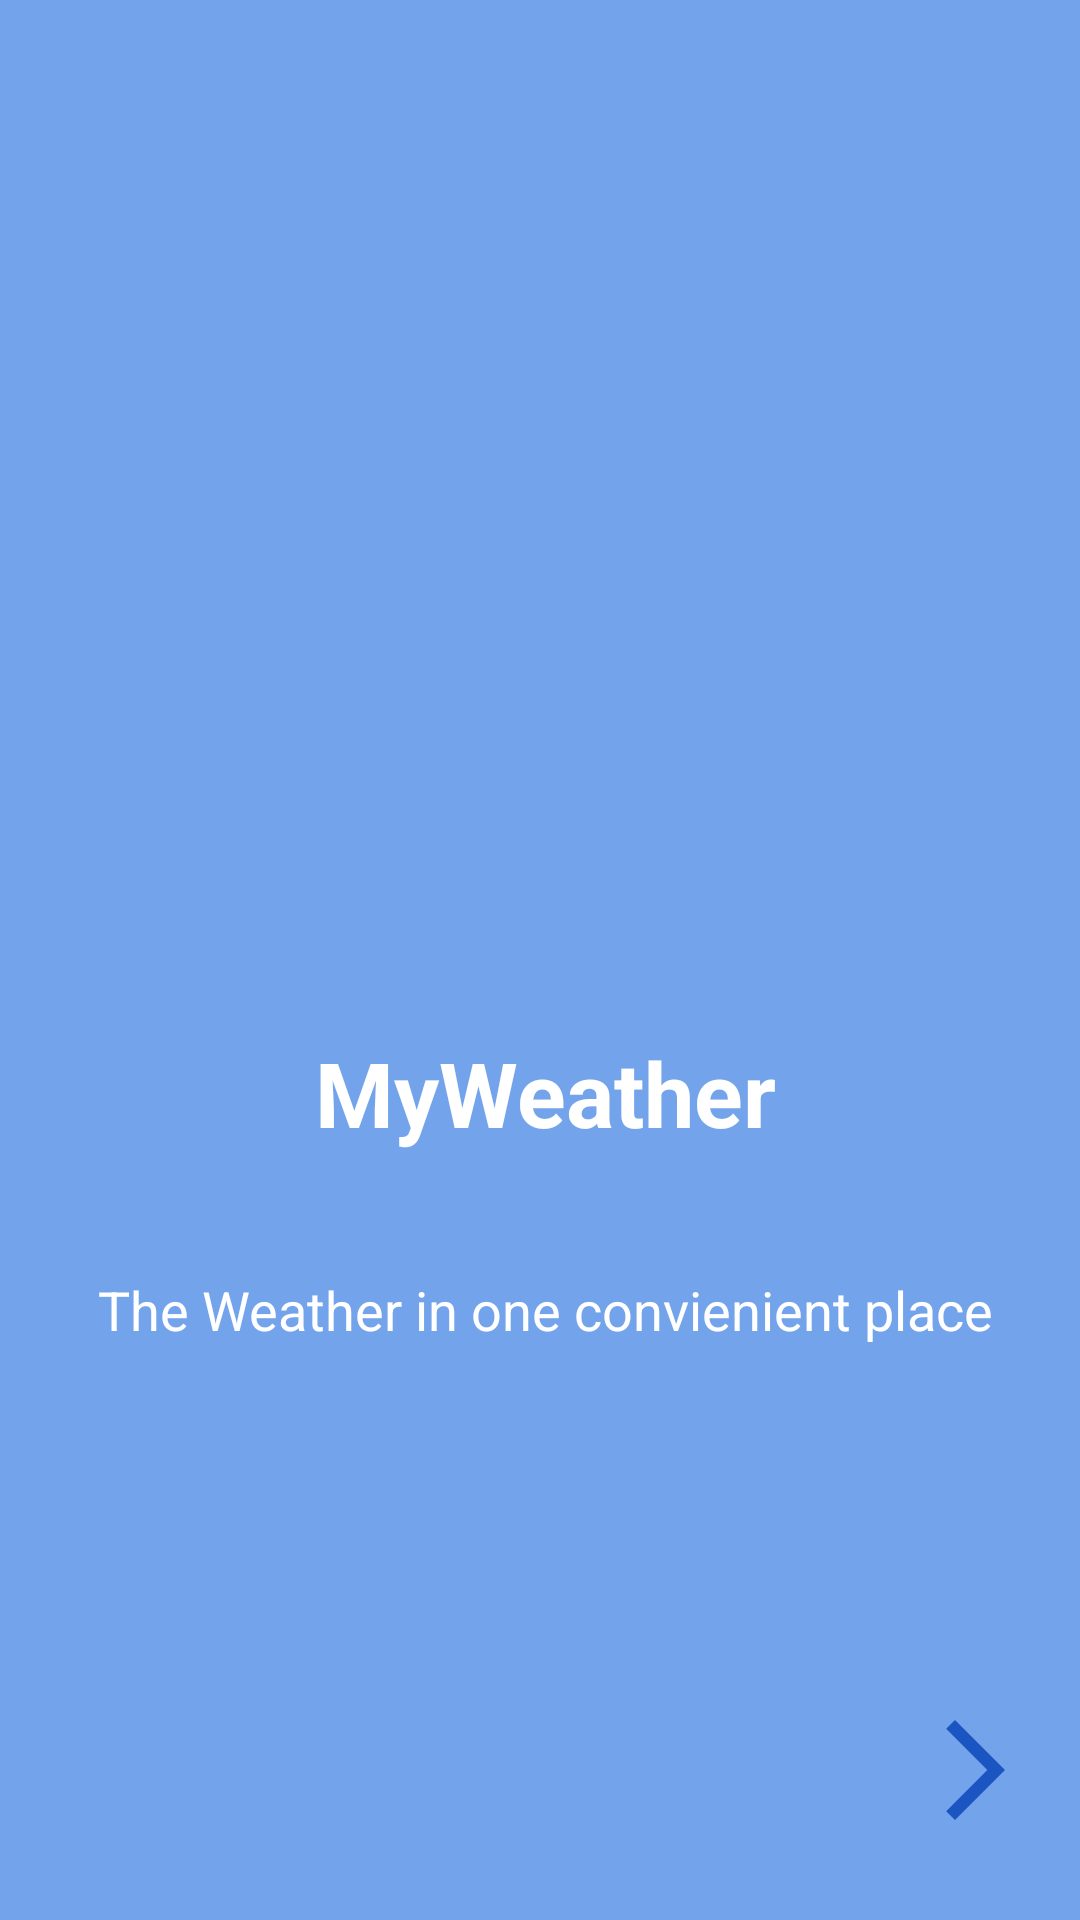

Icon click points for this 1080 x 1920 phone screenshot, format point (x, y):
next: point (975, 1770)
